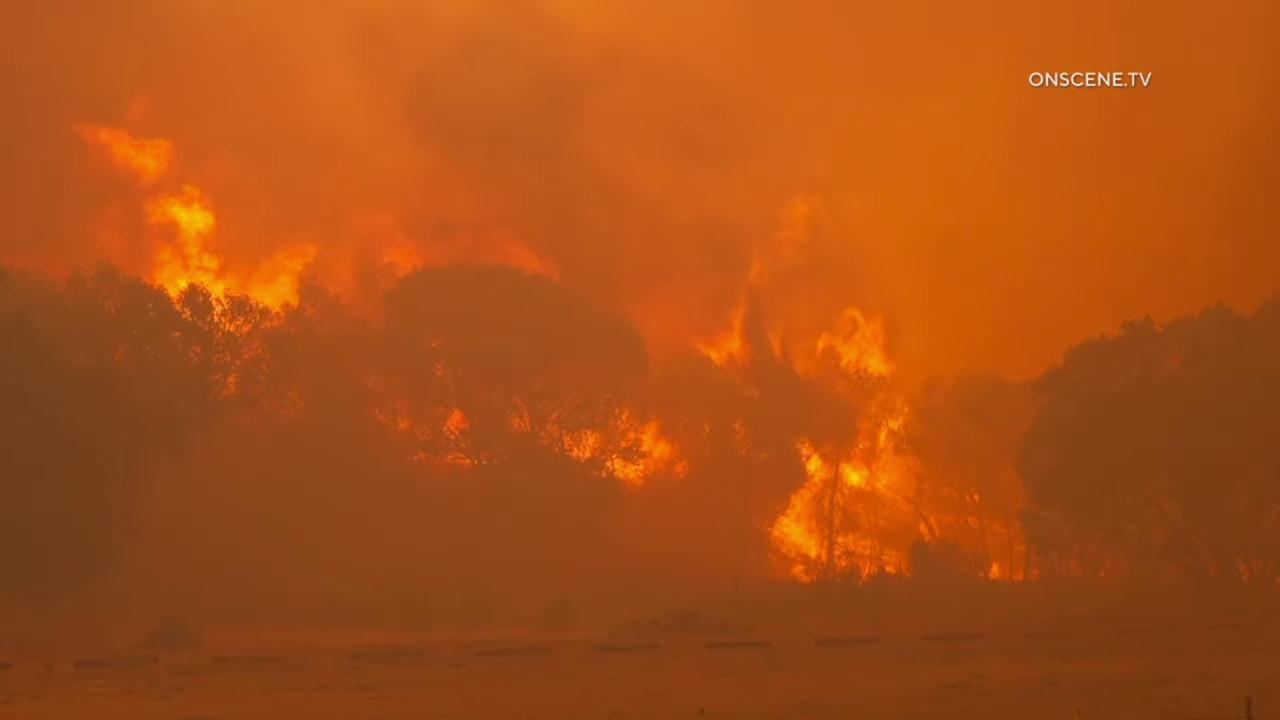fire: (695, 182, 1051, 590), (49, 98, 320, 399), (362, 379, 694, 497), (384, 217, 568, 288)
smoke: (0, 0, 1280, 597)
